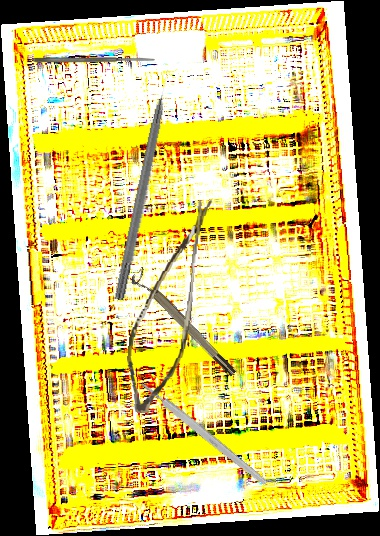Fixation Ring: (128, 266, 239, 383)
Hook Surgical: (113, 68, 176, 302)
Micro Scissor: (121, 192, 213, 418)
Scalpel Handle: (138, 379, 270, 488)
Spatula Surgical: (33, 57, 156, 63)
